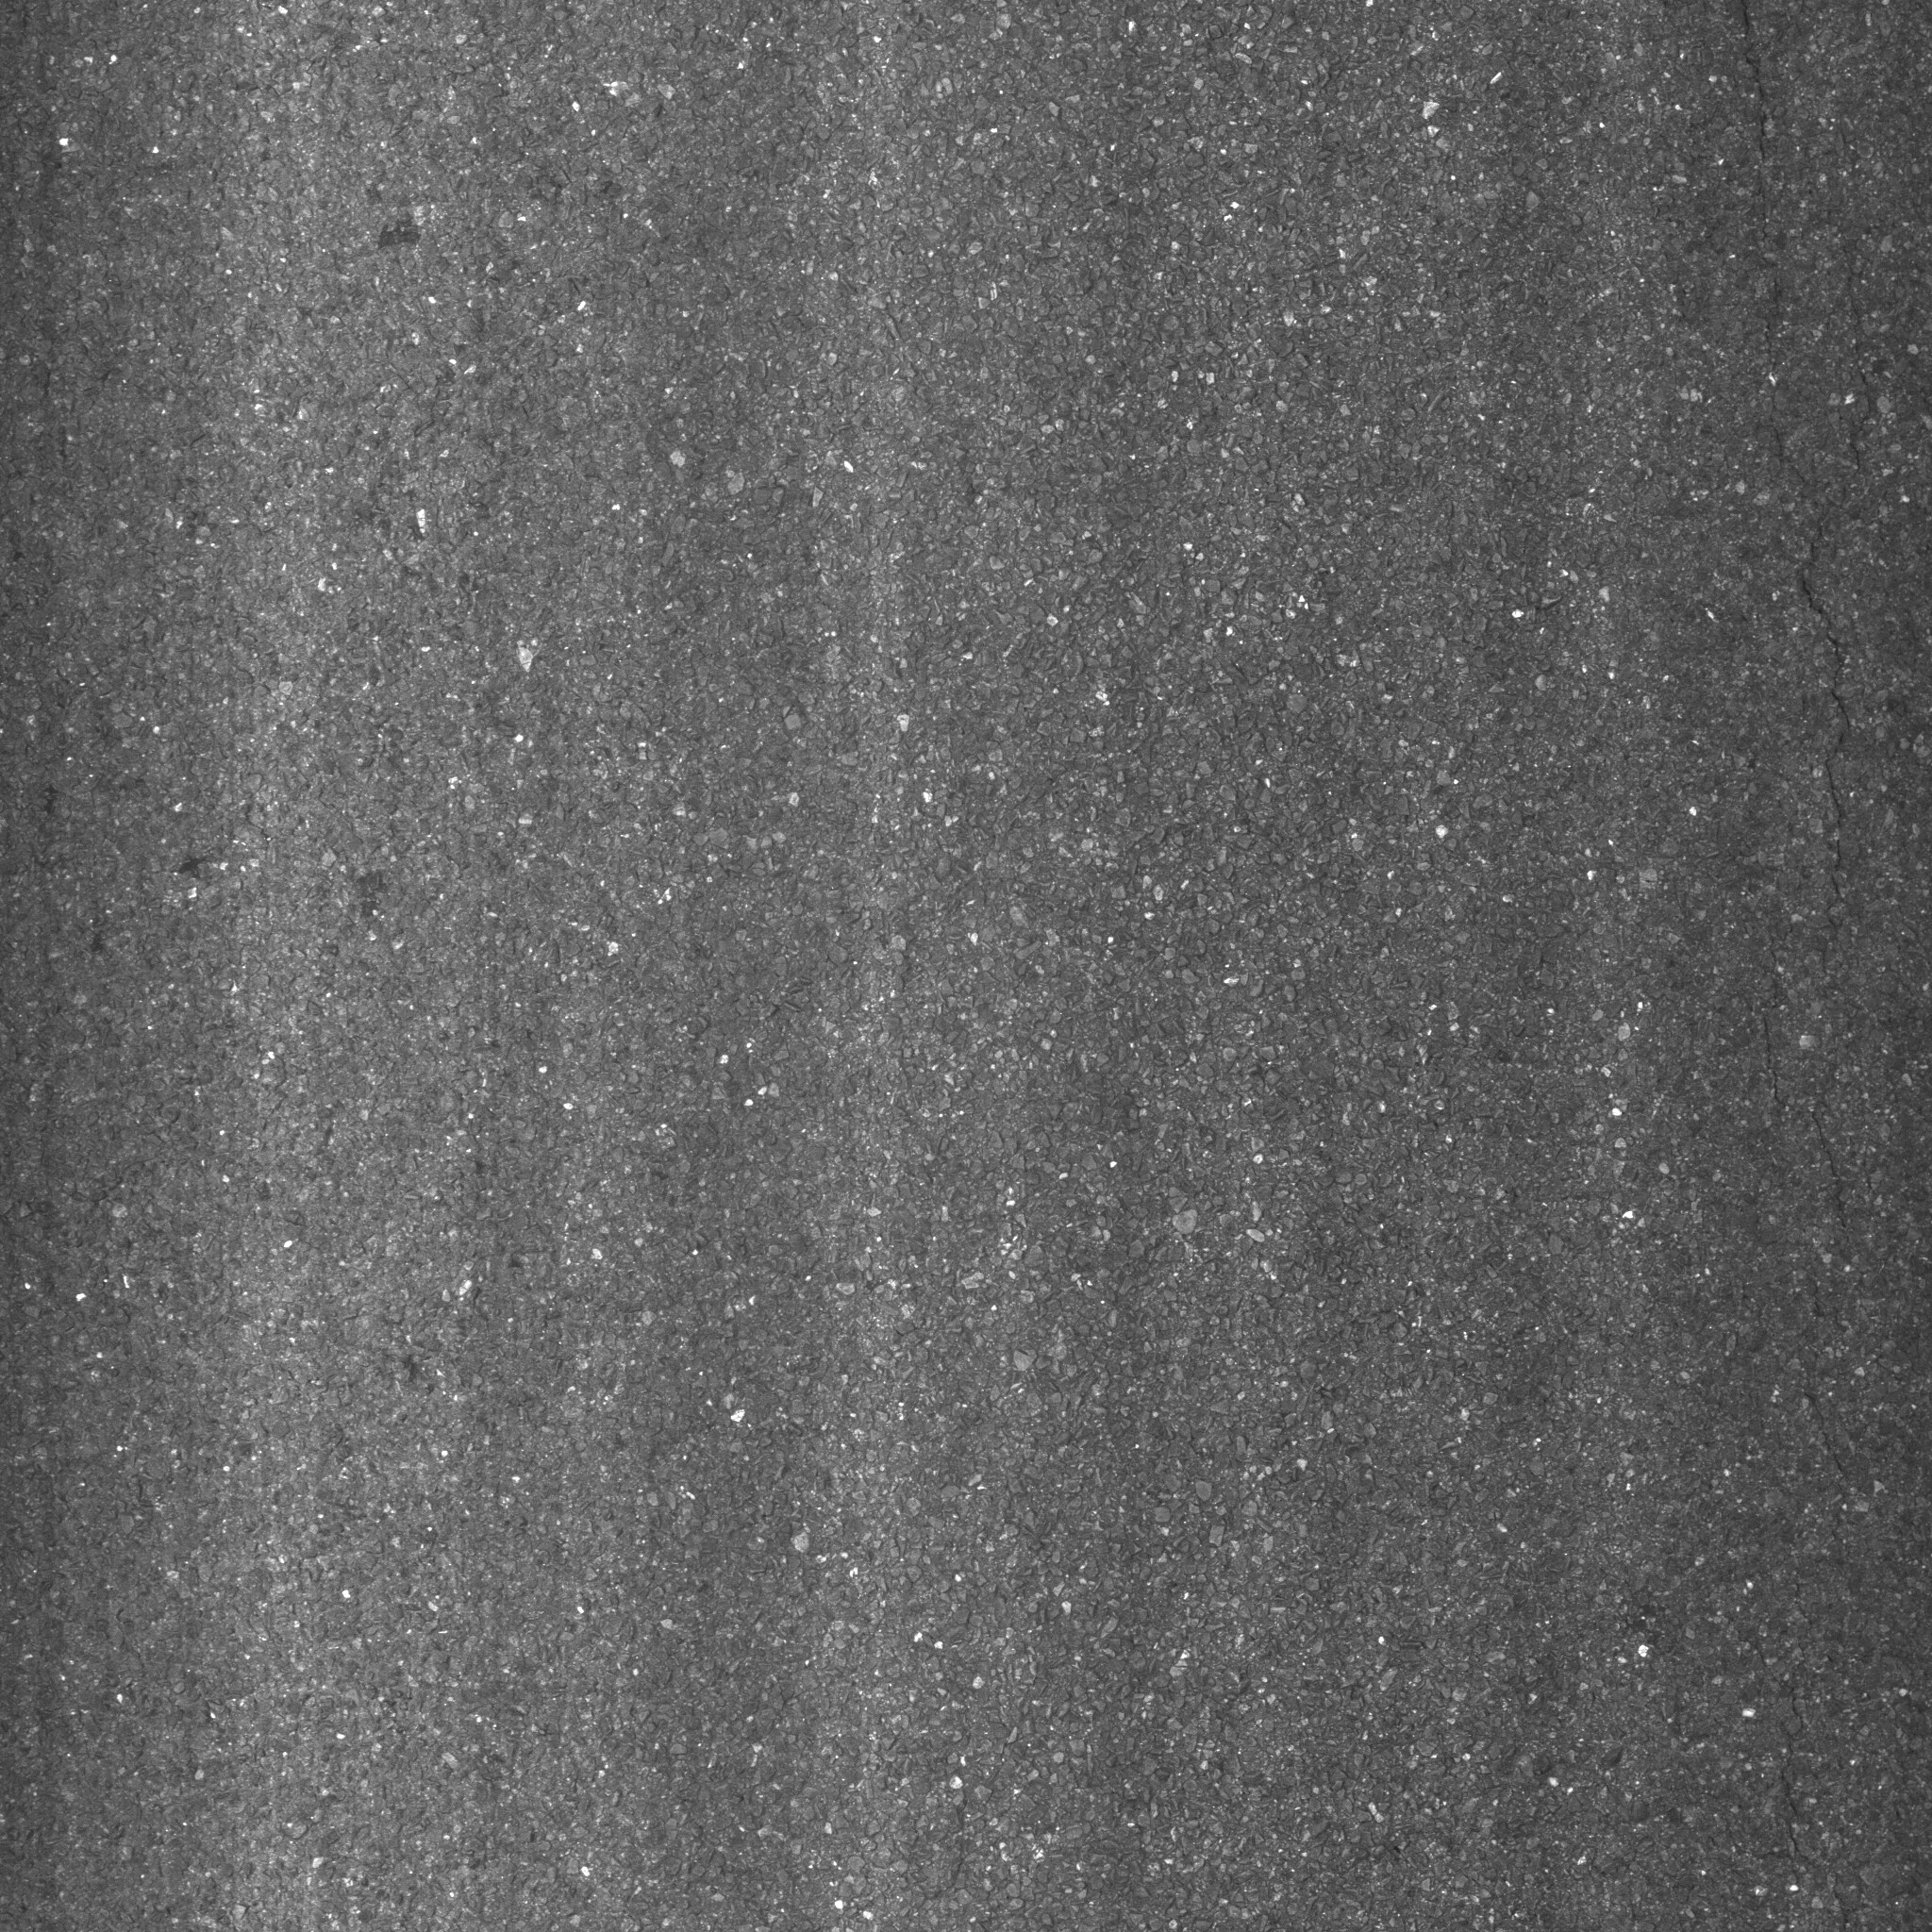longitudinal: (1789, 391, 1909, 1292)
